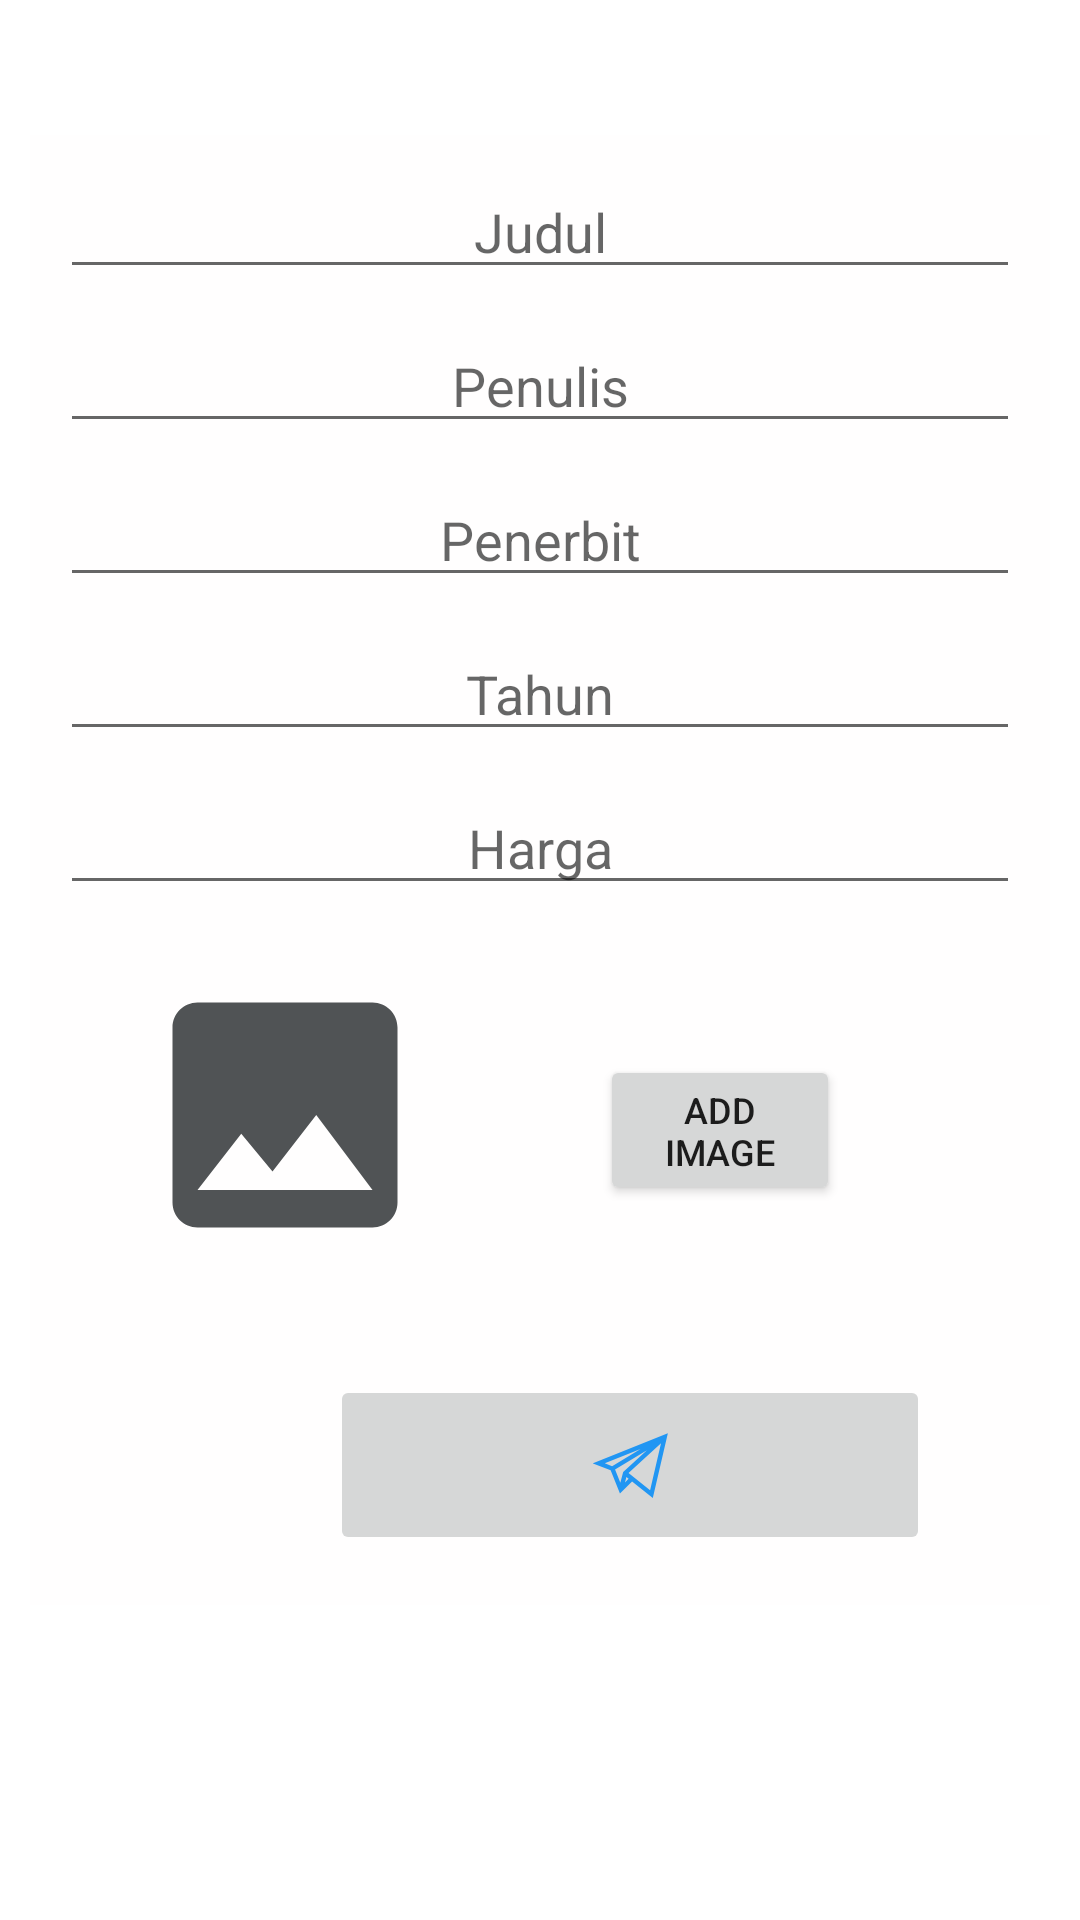

Point at icon controls on the screen. Image size 1080w x 1920h, points as (x,y).
imageadd: (285,1115)
